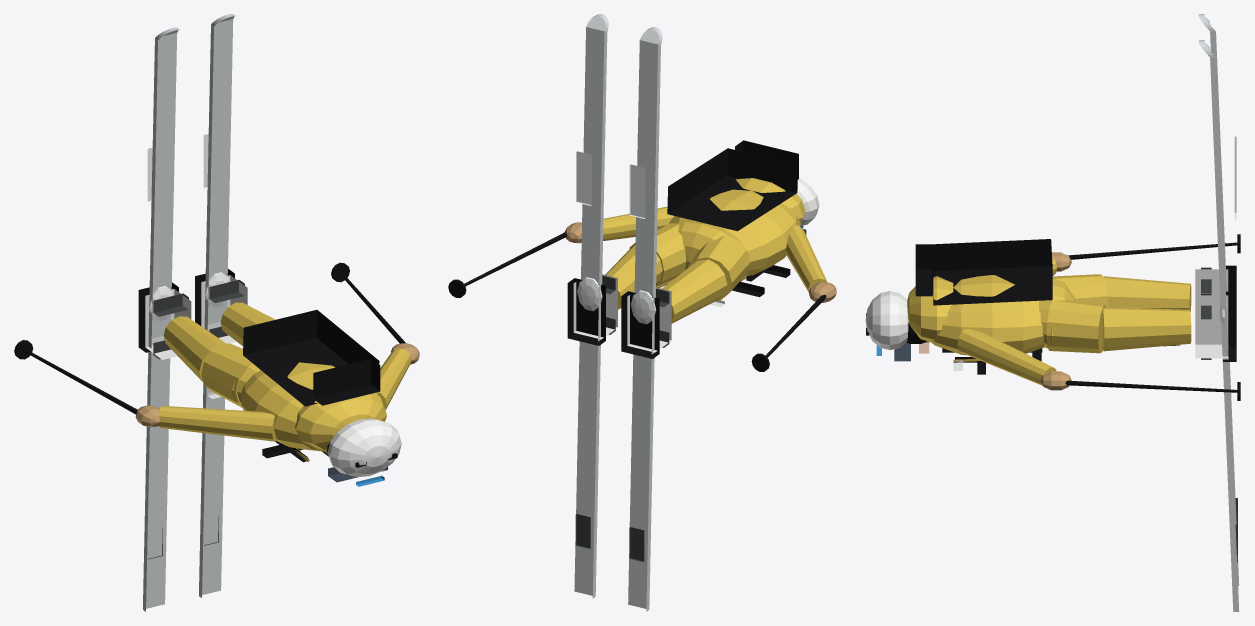
Rendered from skier.glb.
3 views of the same model, side by side, from view 1: azimuth 30°, elevation 25°; view 2: azimuth 150°, elevation 25°; view 3: azimuth 270°, elevation 25° (orthographic). The views are drawn at different scales.
Visible parts, largest first — view 1: LEFT_SKI_centered_front_back_under_person, RIGHT_SKI_centered_front_back_under_person, large_black_freeride_backpack, yellow_jacket_torso, white_helmet, left_yellow_sleeve_out_to_pole, high_yellow_collar_hood, black_backpack_top_lid, left_yellow_upper_leg_to_hip, left_yellow_lower_leg_over_left_ski, white_boot_centered_on_ski_binding (×2), right_yellow_lower_leg_over_right_ski (+4 smaller); view 2: LEFT_SKI_centered_front_back_under_person, RIGHT_SKI_centered_front_back_under_person, large_black_freeride_backpack, yellow_jacket_torso, black_binding_directly_between_boot_and_ski (×2), left_yellow_lower_leg_over_left_ski, left_yellow_upper_leg_to_hip, white_boot_centered_on_ski_binding (×2), left_yellow_sleeve_out_to_pole, right_yellow_upper_leg_to_hip, snow_powder_on_boot_and_ski (×2), yellow_pants_hip (+8 smaller); view 3: large_black_freeride_backpack, yellow_jacket_torso, RIGHT_SKI_centered_front_back_under_person, right_yellow_lower_leg_over_right_ski, right_yellow_upper_leg_to_hip, left_yellow_lower_leg_over_left_ski, right_yellow_sleeve_out_to_pole, white_boot_centered_on_ski_binding (×2), white_helmet, high_yellow_collar_hood, left_yellow_upper_leg_to_hip, LEFT_SKI_centered_front_back_under_person (+5 smaller).
Boxes of the visible parts, x1,y1,x2,y2 form: LEFT_SKI_centered_front_back_under_person: (143, 27, 179, 611); RIGHT_SKI_centered_front_back_under_person: (199, 14, 236, 597); large_black_freeride_backpack: (243, 310, 379, 406); yellow_jacket_torso: (240, 362, 378, 451); white_helmet: (328, 418, 401, 477); left_yellow_sleeve_out_to_pole: (158, 405, 276, 441); high_yellow_collar_hood: (295, 393, 386, 449); black_backpack_top_lid: (313, 359, 380, 405); left_yellow_upper_leg_to_hip: (201, 343, 251, 407); left_yellow_lower_leg_over_left_ski: (163, 316, 225, 381); white_boot_centered_on_ski_binding (×2): (145, 275, 247, 359); right_yellow_lower_leg_over_right_ski: (220, 302, 275, 346); LEFT_SKI_centered_front_back_under_person: (628, 27, 662, 611); RIGHT_SKI_centered_front_back_under_person: (574, 14, 608, 598); large_black_freeride_backpack: (667, 148, 798, 231); yellow_jacket_torso: (669, 189, 800, 276); black_binding_directly_between_boot_and_ski (×2): (567, 278, 659, 358); left_yellow_lower_leg_over_left_ski: (662, 259, 727, 323); left_yellow_upper_leg_to_hip: (688, 235, 750, 300); white_boot_centered_on_ski_binding (×2): (573, 274, 671, 352); left_yellow_sleeve_out_to_pole: (785, 225, 827, 292); right_yellow_upper_leg_to_hip: (629, 223, 686, 286); snow_powder_on_boot_and_ski (×2): (577, 277, 656, 324); yellow_pants_hip: (676, 221, 748, 272); large_black_freeride_backpack: (932, 239, 1052, 305); yellow_jacket_torso: (931, 275, 1044, 355); RIGHT_SKI_centered_front_back_under_person: (1198, 40, 1239, 611); right_yellow_lower_leg_over_right_ski: (1103, 307, 1191, 351); right_yellow_upper_leg_to_hip: (1046, 300, 1106, 353); left_yellow_lower_leg_over_left_ski: (1103, 276, 1191, 311); right_yellow_sleeve_out_to_pole: (957, 329, 1056, 385); white_boot_centered_on_ski_binding (×2): (1195, 269, 1228, 358); white_helmet: (865, 291, 908, 349); high_yellow_collar_hood: (907, 276, 953, 341); left_yellow_upper_leg_to_hip: (1052, 274, 1107, 306); LEFT_SKI_centered_front_back_under_person: (1198, 14, 1239, 585).
Bounding box in the file's own units: 1.73 × 2.93 × 1.76.
